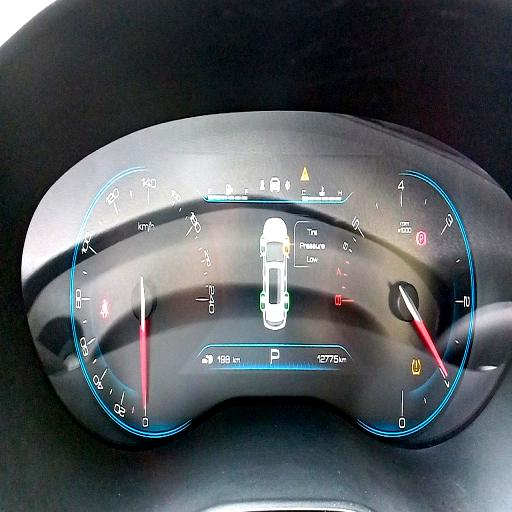belt: (100, 299, 110, 318)
tachometer: (330, 168, 475, 437)
